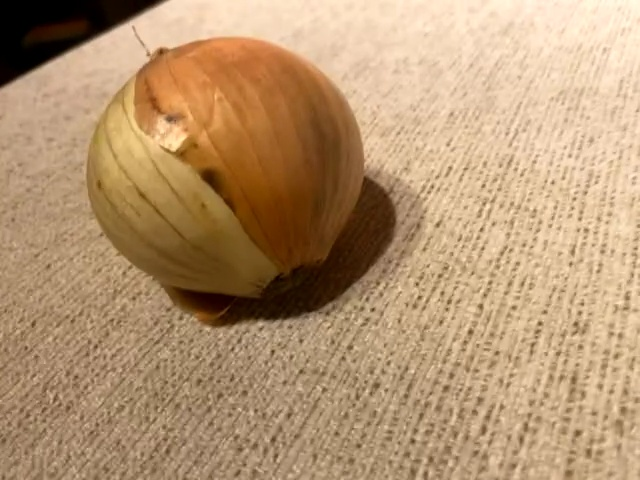onion: (81, 31, 373, 324)
